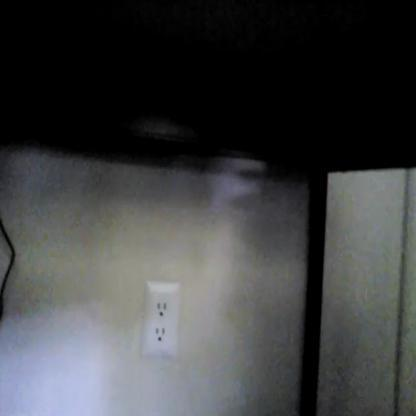OUTLET: (144, 282, 178, 356)
